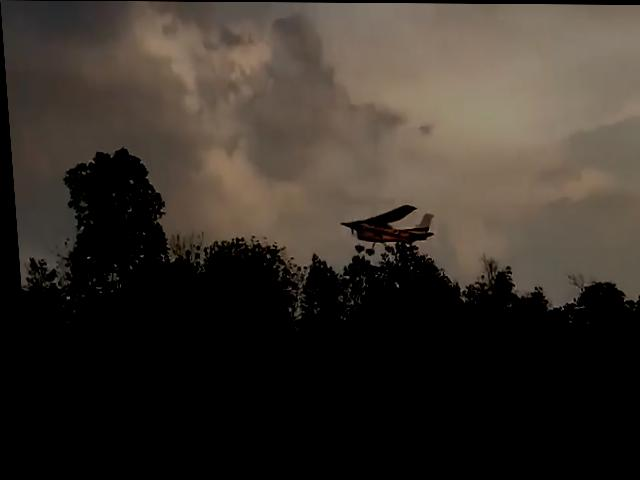plane: (338, 203, 431, 256)
